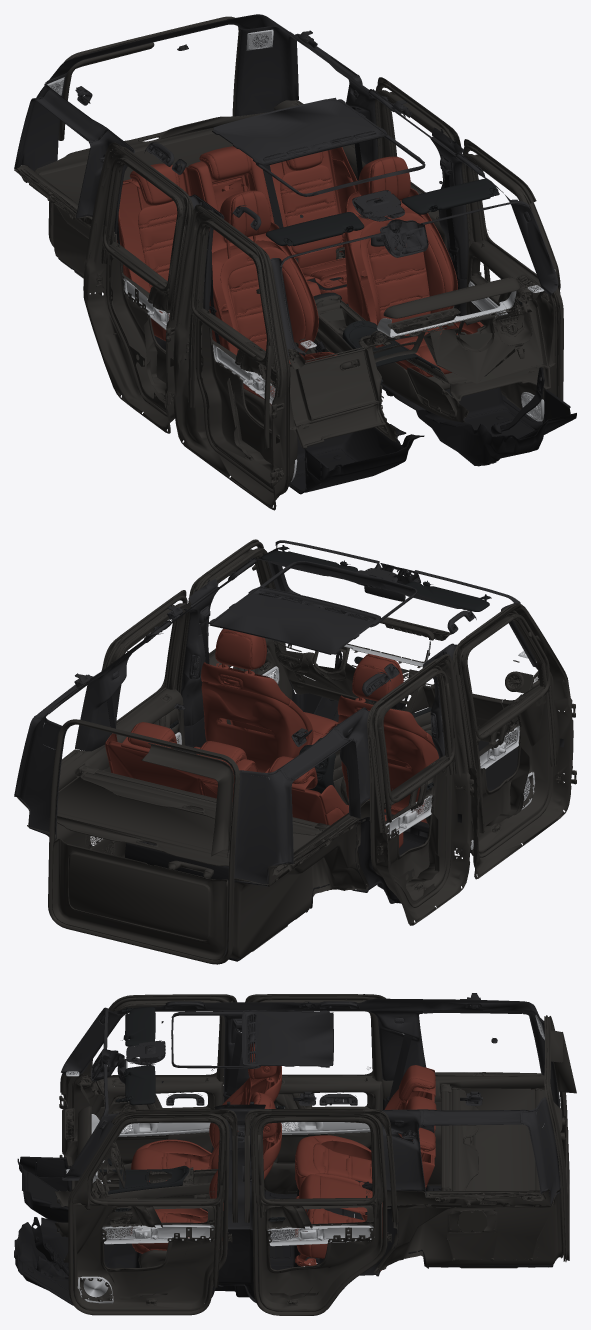
The model's file is cabin-structure.glb.
The picture shows the model from 3 angles, top to bottom: view 1: azimuth 30°, elevation 25°; view 2: azimuth 150°, elevation 25°; view 3: azimuth 270°, elevation 25°; orthographic projection. The views are drawn at different scales.
Visible parts, largest first — view 1: himmel_vomi_cabinRoof, tuer_vore_cabinLeather, ita_ob_cabinLeather, tuer_hire_cabinLeather, sitz_hi_cabinAccent, boden_vomi_cabinFloor, sitz_voli_cabinAccent, sitz_vore_cabinAccent, tuer_voli_cabinLeather, kraum_mi_cabinLeather, miko_lire_cabinLeather, kraum_re_cabinLeather (+17 smaller); view 2: himmel_vomi_cabinRoof, tuer_hi_cabinLeather, tuer_vore_cabinLeather, tuer_hire_cabinLeather, kraum_mi_cabinLeather, sitz_voli_cabinAccent, kraum_re_cabinLeather, ita_ob_cabinLeather, sitz_vore_cabinAccent, sitz_hi_cabinAccent, tuer_hili_cabinLeather, boden_vomi_cabinFloor (+13 smaller); view 3: himmel_vomi_cabinRoof, tuer_voli_cabinLeather, tuer_hili_cabinLeather, kraum_li_cabinLeather, boden_vomi_cabinFloor, kraum_mi_cabinLeather, sitz_hi_cabinAccent, tuer_hire_cabinLeather, tuer_vore_cabinLeather, sitz_vore_cabinAccent, tuer_hi_cabinLeather, ita_ob_cabinLeather (+19 smaller).
Part boxes in pixels (x1,y1,x2,y2): himmel_vomi_cabinRoof: (14, 14, 558, 356); tuer_vore_cabinLeather: (173, 204, 297, 510); ita_ob_cabinLeather: (288, 277, 555, 448); tuer_hire_cabinLeather: (83, 142, 193, 433); sitz_hi_cabinAccent: (117, 147, 367, 340); boden_vomi_cabinFloor: (154, 277, 576, 494); sitz_voli_cabinAccent: (247, 156, 483, 377); sitz_vore_cabinAccent: (209, 190, 337, 405); tuer_voli_cabinLeather: (461, 139, 563, 421); kraum_mi_cabinLeather: (34, 112, 267, 222); miko_lire_cabinLeather: (313, 299, 468, 441); kraum_re_cabinLeather: (14, 165, 116, 293); himmel_vomi_cabinRoof: (14, 540, 537, 886); tuer_hi_cabinLeather: (48, 719, 240, 964); tuer_vore_cabinLeather: (452, 603, 576, 879); tuer_hire_cabinLeather: (367, 654, 474, 925); kraum_mi_cabinLeather: (57, 765, 330, 866); sitz_voli_cabinAccent: (201, 628, 338, 772); kraum_re_cabinLeather: (222, 799, 369, 960); ita_ob_cabinLeather: (272, 617, 539, 748); sitz_vore_cabinAccent: (337, 654, 438, 823); sitz_hi_cabinAccent: (105, 733, 403, 847); tuer_hili_cabinLeather: (101, 590, 190, 745); boden_vomi_cabinFloor: (184, 679, 564, 903); himmel_vomi_cabinRoof: (61, 993, 560, 1229); tuer_voli_cabinLeather: (68, 1109, 237, 1315); tuer_hili_cabinLeather: (244, 1109, 397, 1315); kraum_li_cabinLeather: (374, 1189, 562, 1273); boden_vomi_cabinFloor: (14, 1098, 398, 1305); kraum_mi_cabinLeather: (440, 1084, 562, 1202); sitz_hi_cabinAccent: (295, 1067, 435, 1270); tuer_hire_cabinLeather: (245, 994, 385, 1194); tuer_vore_cabinLeather: (59, 994, 236, 1181); sitz_vore_cabinAccent: (131, 1043, 281, 1181); tuer_hi_cabinLeather: (544, 1015, 576, 1261); ita_ob_cabinLeather: (58, 1074, 125, 1262).
Size of the model in its own units: 1.78 by 1.38 by 3.14.
